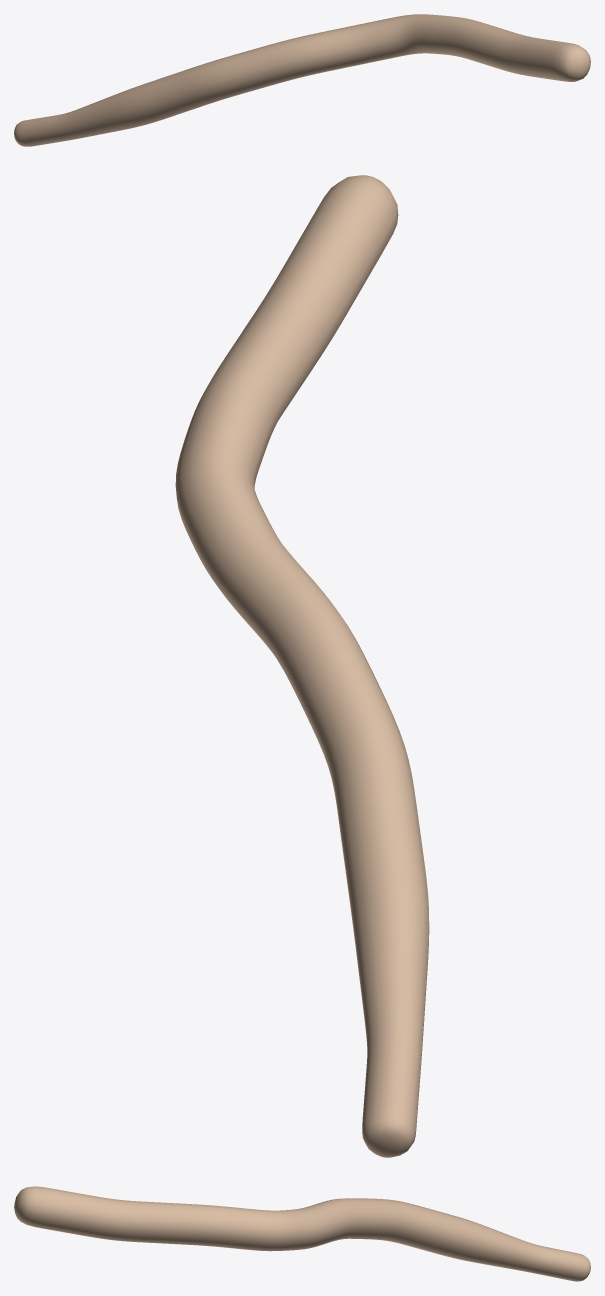
The picture shows the model from 3 angles, top to bottom: view 1: azimuth 30°, elevation 25°; view 2: azimuth 150°, elevation 25°; view 3: azimuth 270°, elevation 25°; orthographic projection. The views are drawn at different scales.
Visible parts, largest first — view 1: 右侧拇长屈肌腱鞘; view 2: 右侧拇长屈肌腱鞘; view 3: 右侧拇长屈肌腱鞘.
Part boxes in pixels (x1,y1,x2,y2): 右侧拇长屈肌腱鞘: [14, 14, 590, 146]; 右侧拇长屈肌腱鞘: [175, 175, 429, 1157]; 右侧拇长屈肌腱鞘: [14, 1186, 590, 1281].
Bounding box in the file's own units: 0.0805 × 0.0564 × 0.1272.
